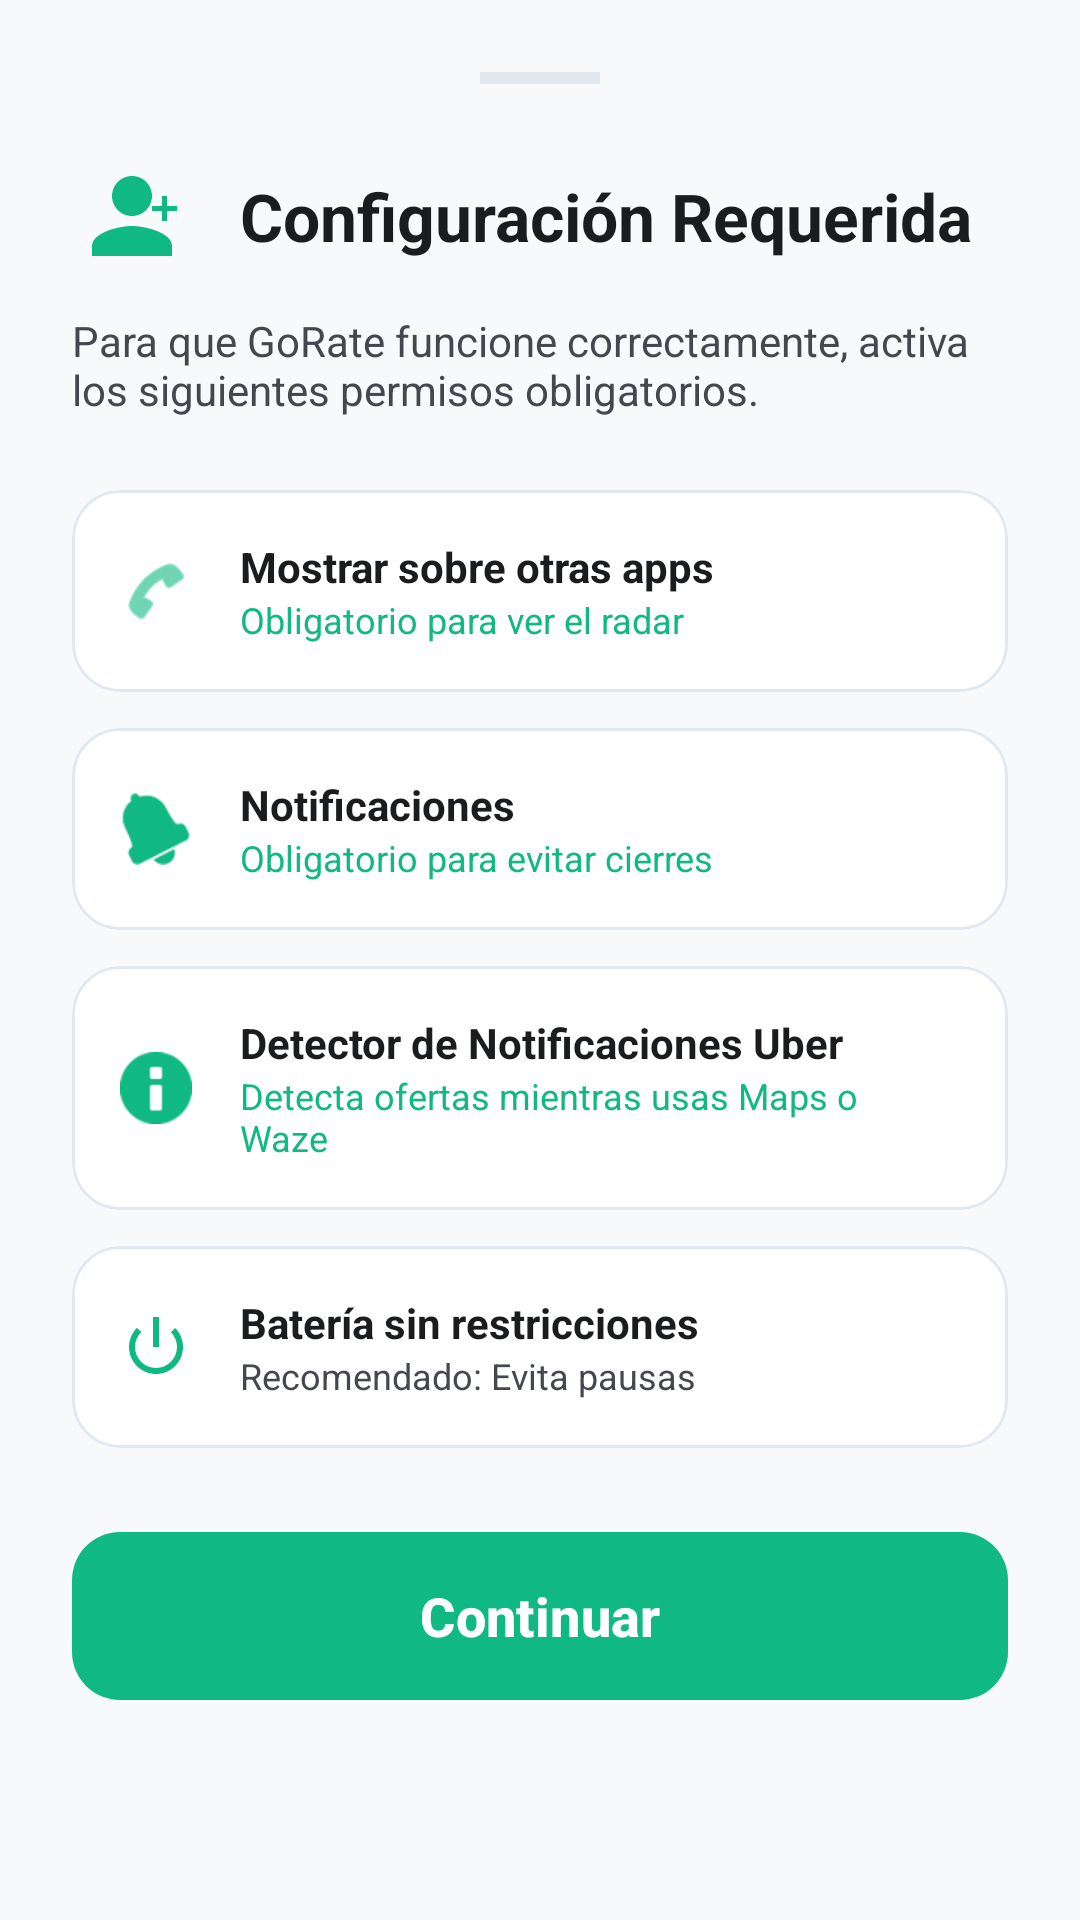

Screen size 1080w x 1920h. Icon name, then its box in pixels as (x1,y1,x2,y2):
call: (128,563,185,620)
info: (120,1052,192,1124)
lock power off: (129,1317,183,1374)
popup reminder: (122,793,190,865)
